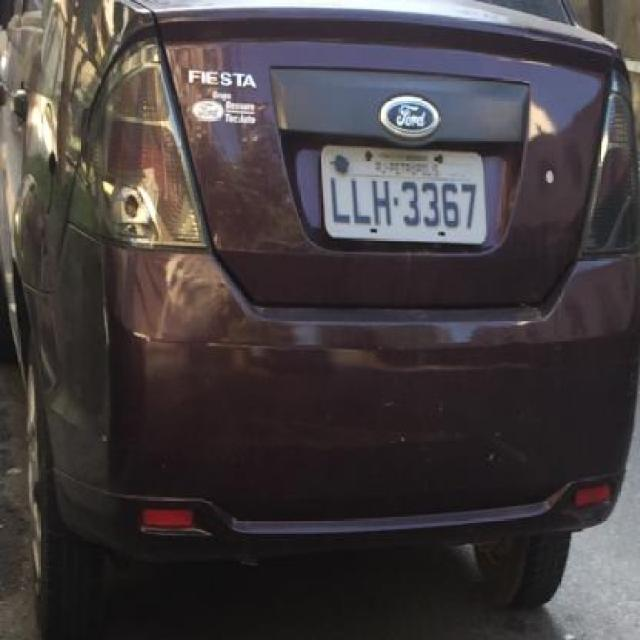old_plate: (317, 141, 492, 251)
